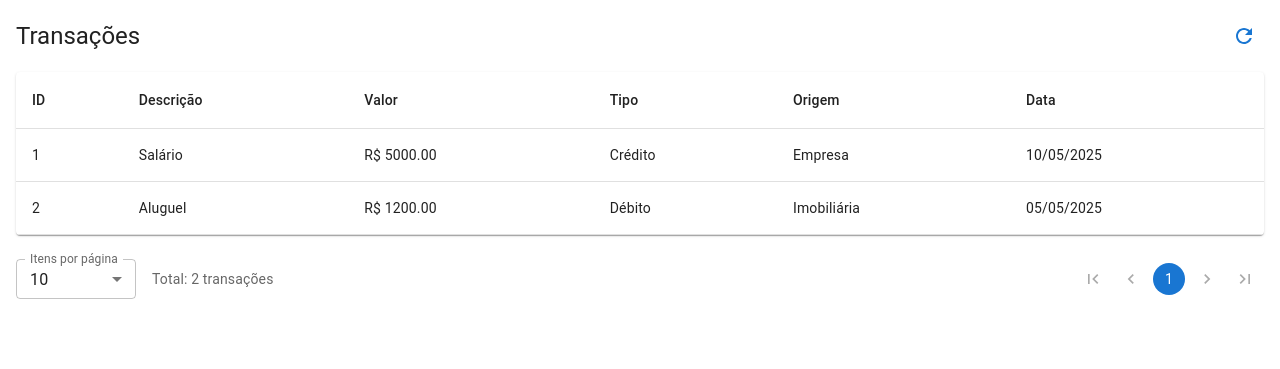
Scenario: TransactionList Component › deve atualizar os dados quando o botão de refresh é clicado
expect the text "Salário" is shown: met, box [123, 128, 348, 182]
Clicar no botão de refresh
Click the button with test id "refresh-button" at (1244, 36), box [1224, 16, 1264, 56]
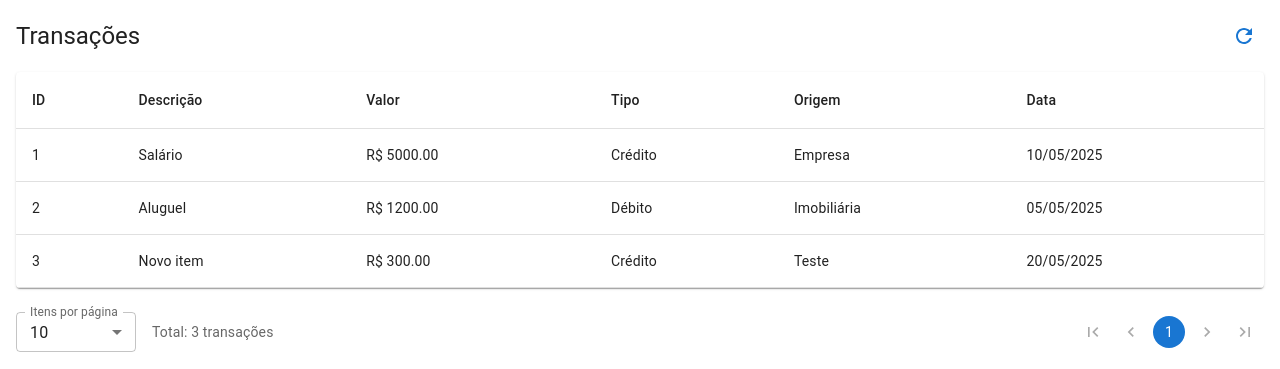
expect the text "Novo item" is shown: met, box [122, 234, 350, 288]
